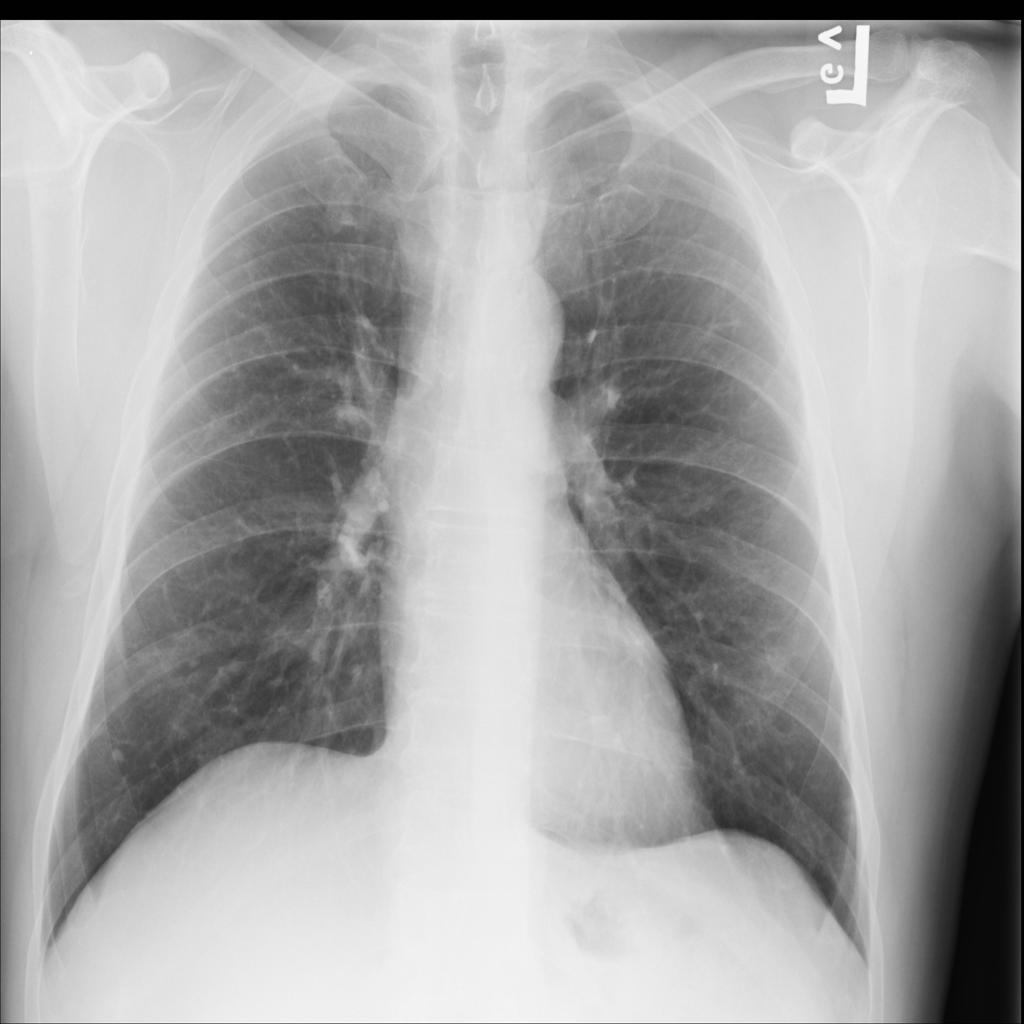nodule: (92, 728, 141, 778)
